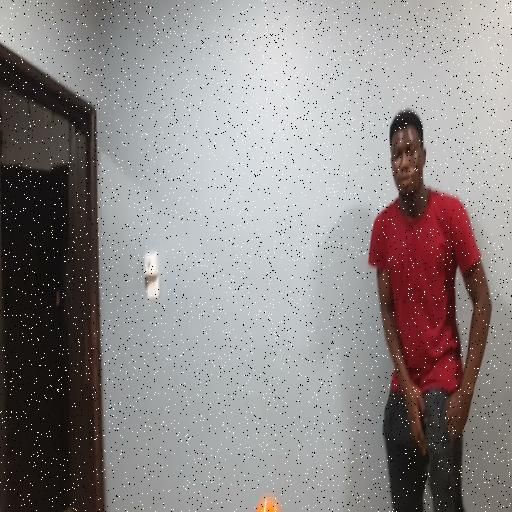plastic-ball: (249, 490, 287, 512)
